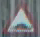Speed Breaker ahead: (0, 3, 37, 34)
